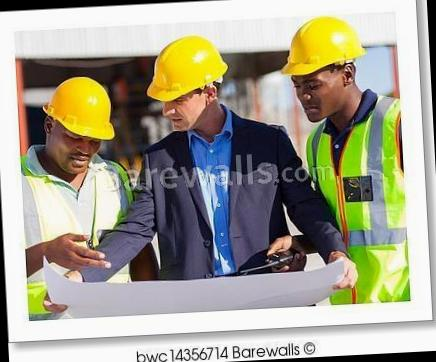helmet: (35, 70, 124, 143), (144, 32, 234, 101), (280, 19, 365, 82)
no_vest: (138, 120, 303, 287), (27, 148, 138, 302)
person: (114, 25, 307, 282), (278, 8, 416, 310), (14, 68, 144, 294)
